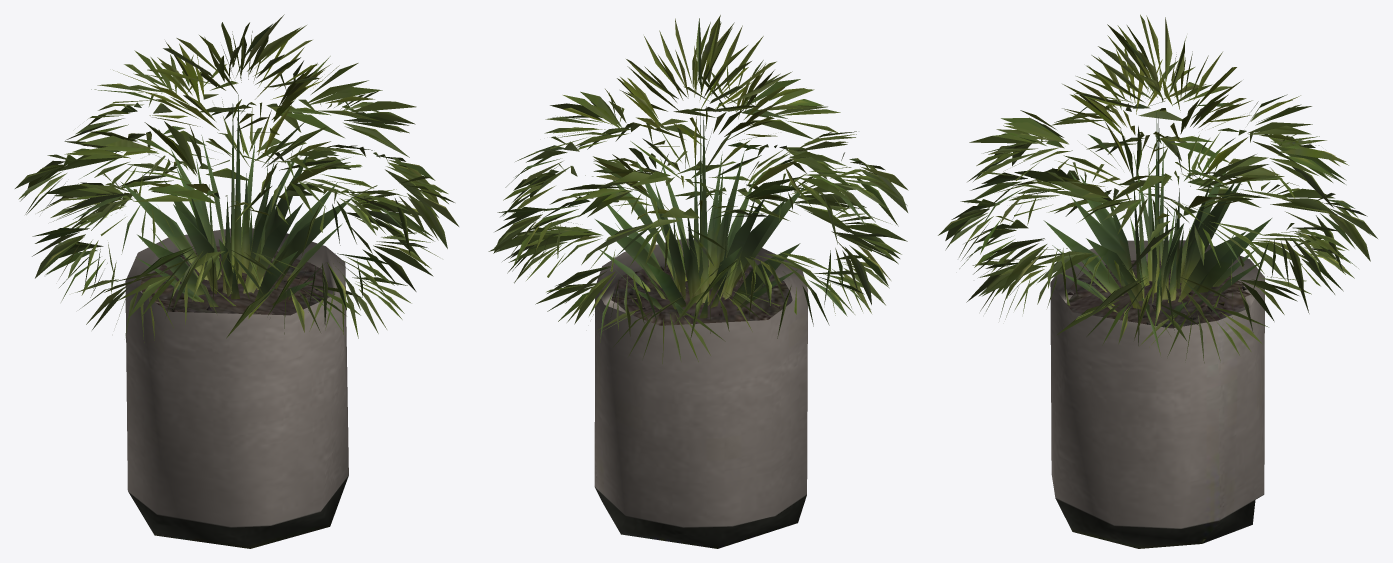
File: Plant0011.obj
The picture shows the model from 3 angles, left to right: view 1: azimuth 30°, elevation 25°; view 2: azimuth 150°, elevation 25°; view 3: azimuth 270°, elevation 25°; orthographic projection. The views are drawn at different scales.
Bounding box in the file's own units: 0.8 × 0.967 × 0.8.
1 material, 1 textured.
